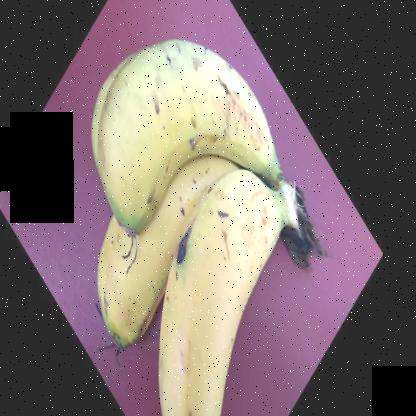ripe: (69, 17, 304, 233), (156, 183, 282, 415), (84, 183, 181, 346)
